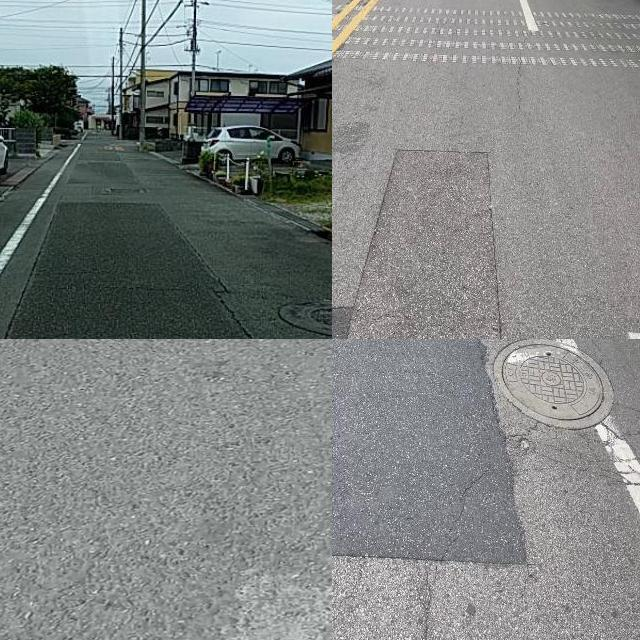Lubang: (491, 341, 612, 424)
Sambungan: (332, 339, 528, 567), (3, 204, 275, 339), (332, 148, 504, 339)
